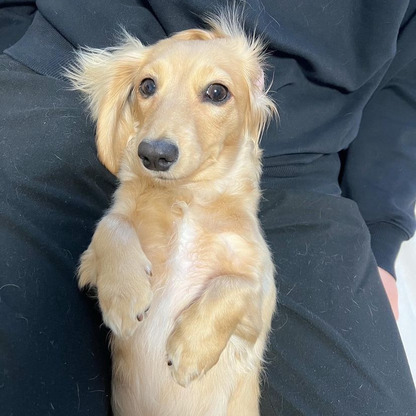dachshund: (61, 27, 311, 391)
